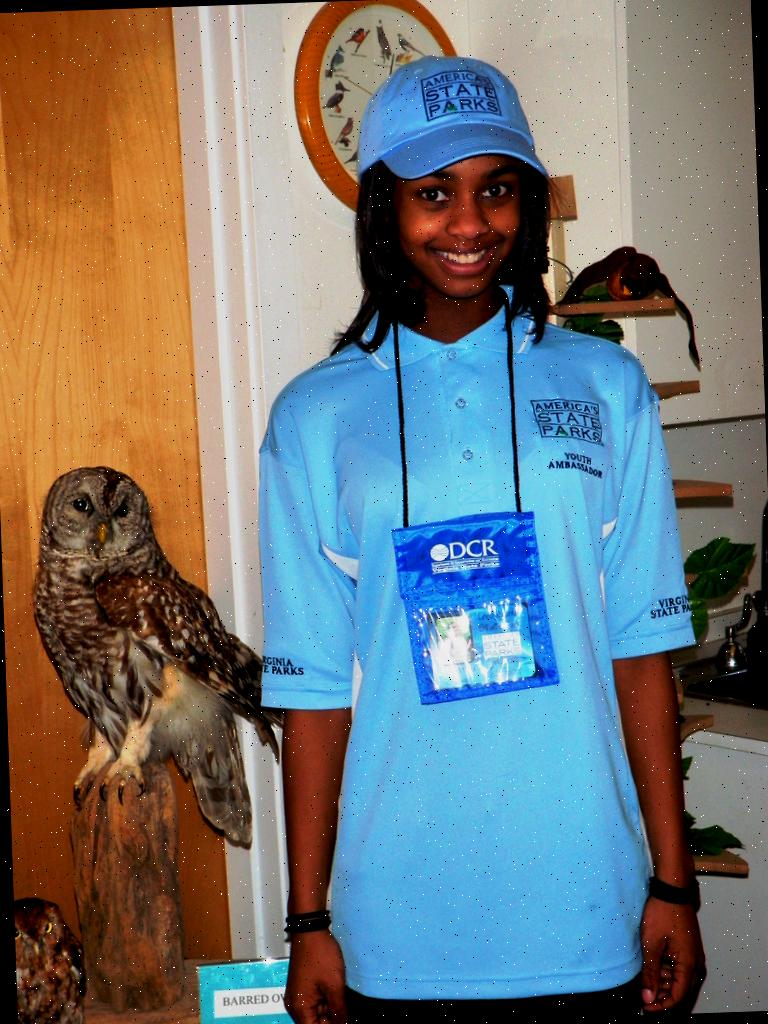Owl: (26, 461, 294, 855), (13, 893, 89, 1024)
